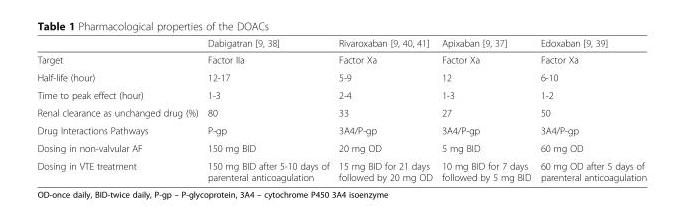table: (36, 37, 646, 182)
table column: (36, 37, 202, 182), (202, 37, 333, 182), (535, 37, 646, 182), (333, 37, 436, 182), (436, 37, 535, 182)
table column header: (36, 37, 646, 51)
table row: (36, 156, 646, 182), (36, 85, 646, 103), (36, 103, 646, 121), (36, 121, 646, 139), (36, 51, 646, 68), (36, 68, 646, 85), (36, 139, 646, 156), (36, 37, 646, 51)
